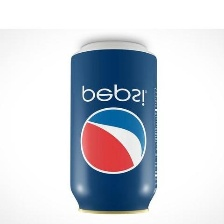can: (64, 39, 161, 219)
